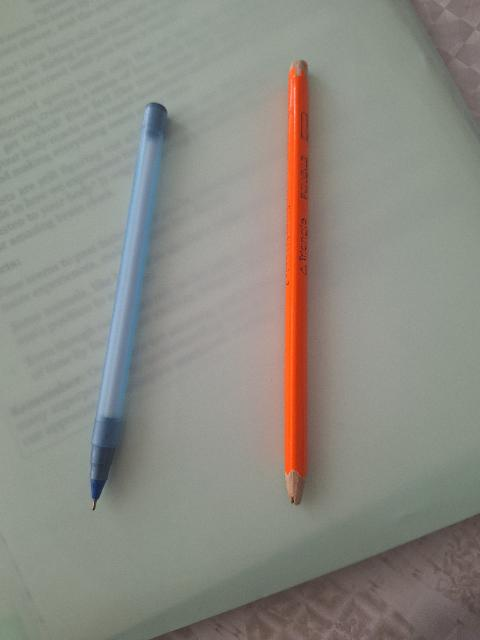writing_tool: (83, 102, 166, 509), (278, 58, 318, 520)
